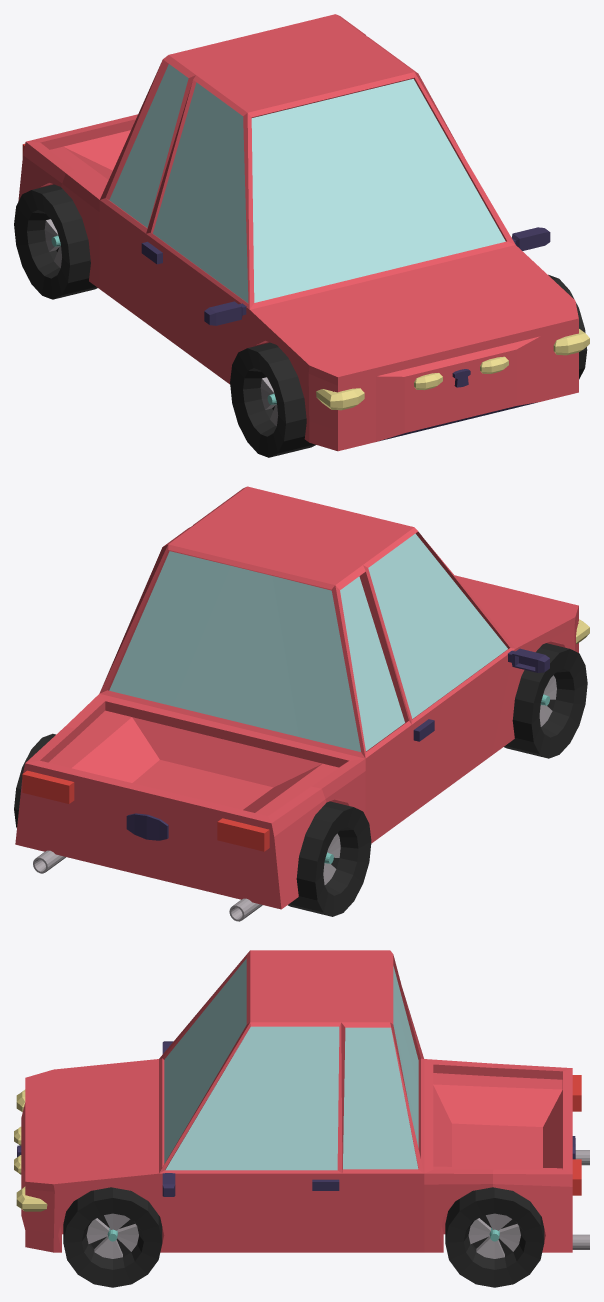
File: Car2.fbx
The picture shows the model from 3 angles, top to bottom: view 1: azimuth 30°, elevation 25°; view 2: azimuth 150°, elevation 25°; view 3: azimuth 270°, elevation 25°; orthographic projection. The views are drawn at different scales.
Parts seen in each view (by area): view 1: Car2, RR_C2, FL_C2; view 2: Car2, RR_C2, FL_C2; view 3: Car2, FR_C2, RL_C2.
Part boxes in pixels (x1,y1,x2,y2): Car2: (18, 14, 589, 451); RR_C2: (14, 184, 97, 299); FL_C2: (230, 342, 315, 457); Car2: (15, 486, 589, 921); RR_C2: (288, 801, 371, 916); FL_C2: (504, 643, 587, 758); Car2: (14, 950, 589, 1252); FR_C2: (63, 1187, 162, 1287); RL_C2: (445, 1187, 544, 1287).
Size of the model in its own units: 189 by 142 by 313.
